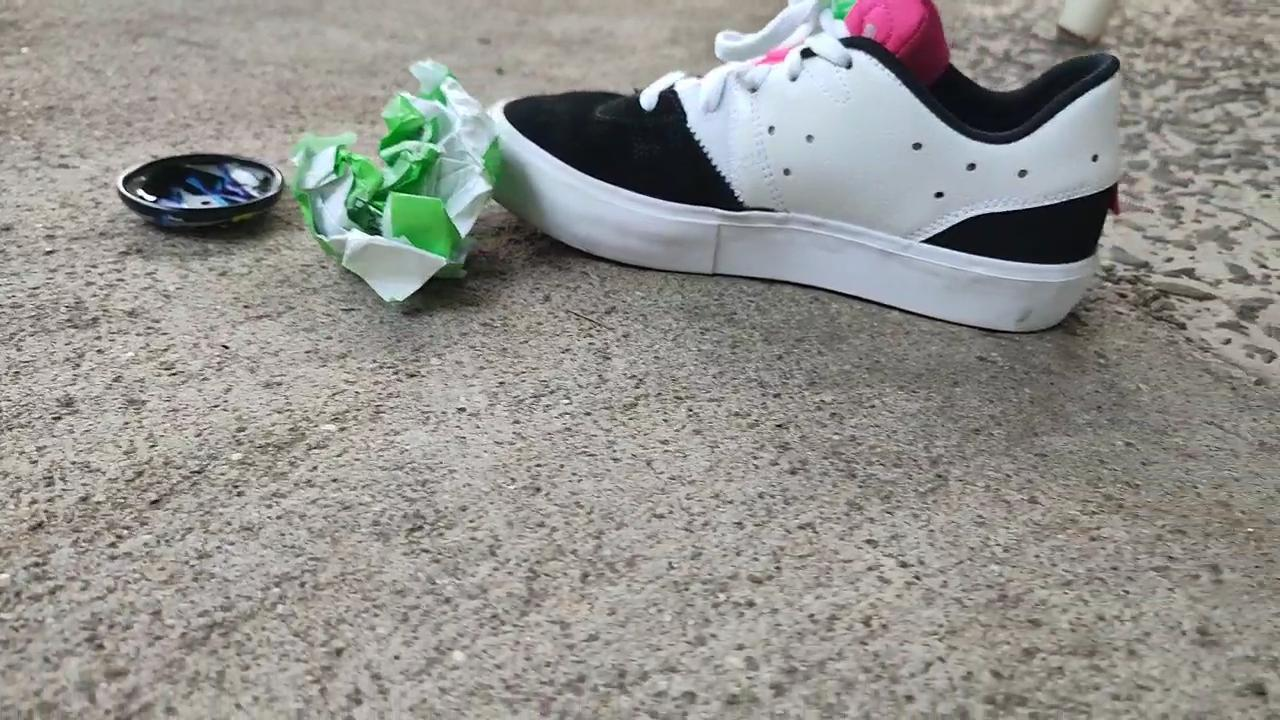Paper: (263, 40, 508, 322)
